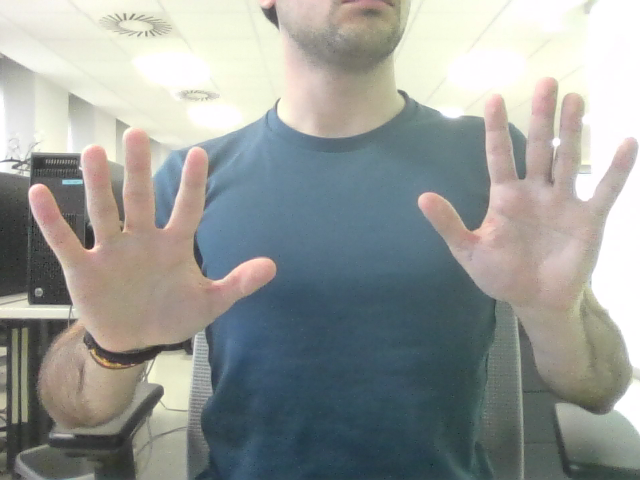Manos Arriba: (69, 99, 600, 312)
